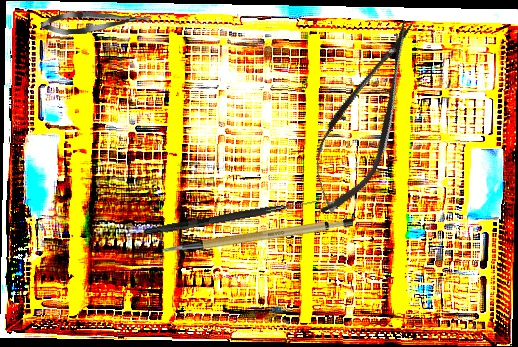Hook Surgical: (143, 195, 321, 238)
Micro Scissor: (292, 8, 439, 226), (40, 8, 152, 36)
Scalpel Handle: (162, 215, 353, 253)
